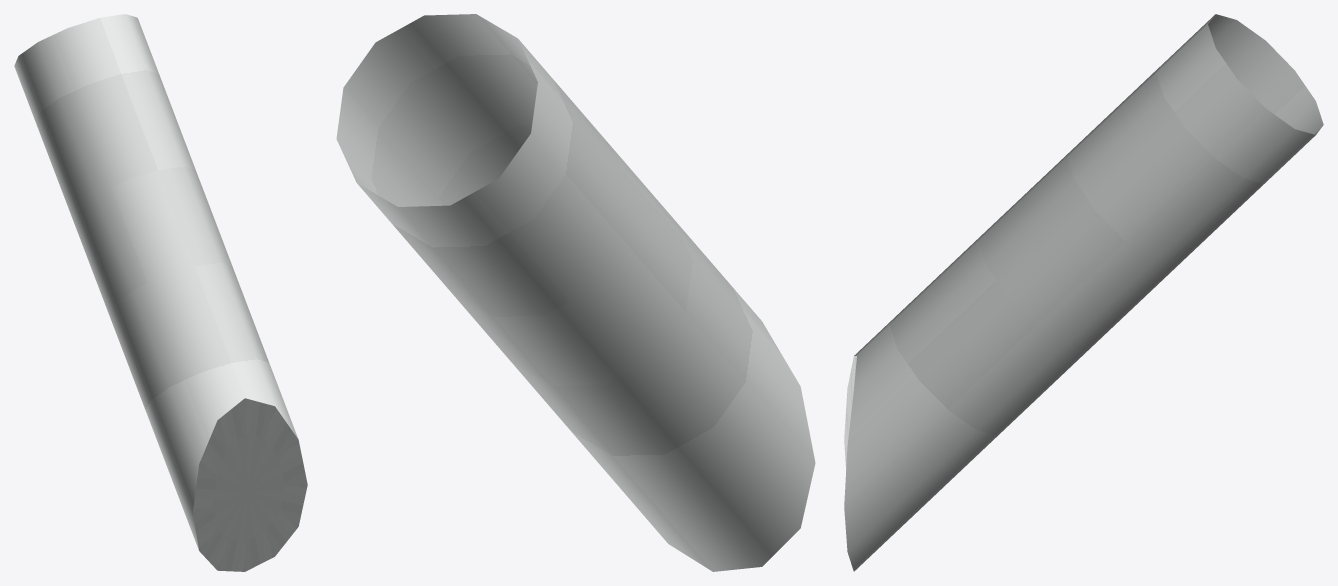
The model's file is luminairearm_truss8ft_c1_thin.obj.
3 renders of one model, left to right at view 1: azimuth 30°, elevation 25°; view 2: azimuth 150°, elevation 25°; view 3: azimuth 270°, elevation 25°, orthographic. The views are drawn at different scales.
Parts seen in each view (by area): view 1: luminairearm_truss8ft_c1_thin; view 2: luminairearm_truss8ft_c1_thin; view 3: luminairearm_truss8ft_c1_thin.
Boxes of the visible parts, box(x1,y1,x2,y2) form: luminairearm_truss8ft_c1_thin: box(14, 14, 307, 571); luminairearm_truss8ft_c1_thin: box(336, 14, 815, 571); luminairearm_truss8ft_c1_thin: box(844, 14, 1323, 571).
Bounding box in the file's own units: 0.1562 × 0.5821 × 0.4669.
